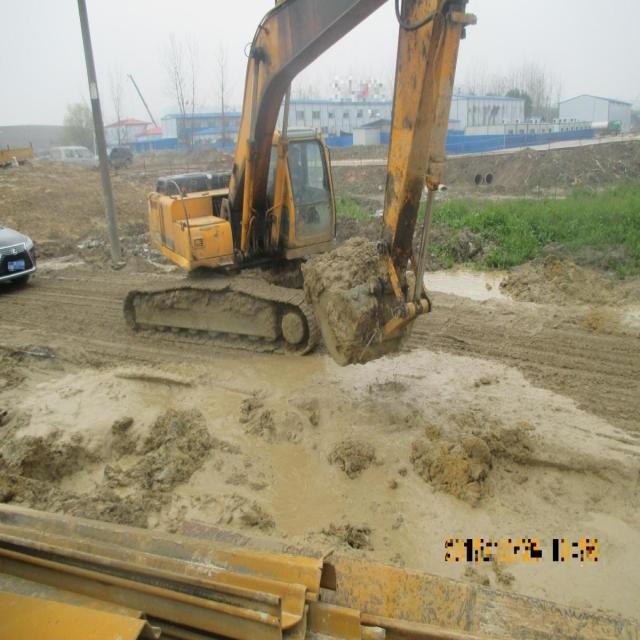excavator: (111, 0, 485, 376)
